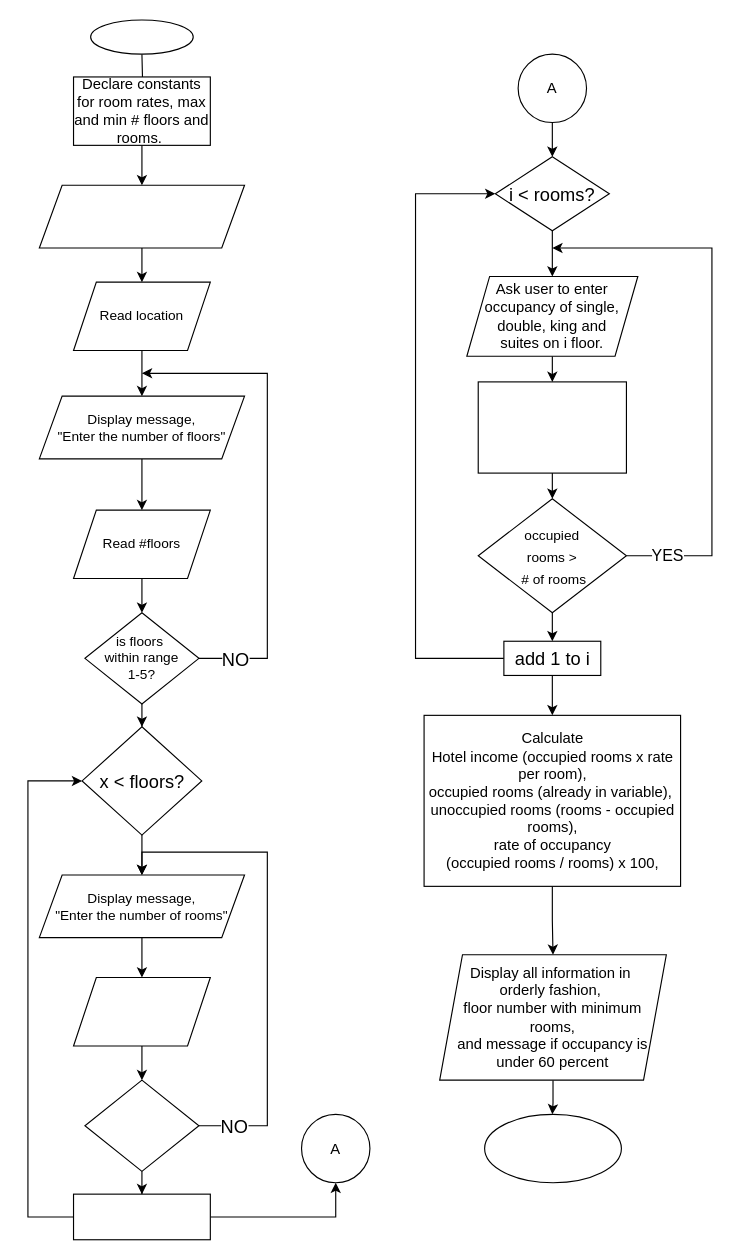
This 741x1260 diagram has some shape labels left out. Here are the shapes that lost their labels. From the top down, the centre of each, then its label:
pixel 141 36: START
pixel 141 216: Display message, "Enter the location of hotel"
pixel 551 427: find total # of occupied rooms by adding all values user inputed
pixel 141 1011: Read rooms
pixel 141 1125: is floors within range 1-30?
pixel 552 1148: END
pixel 141 1216: add 1 to x
